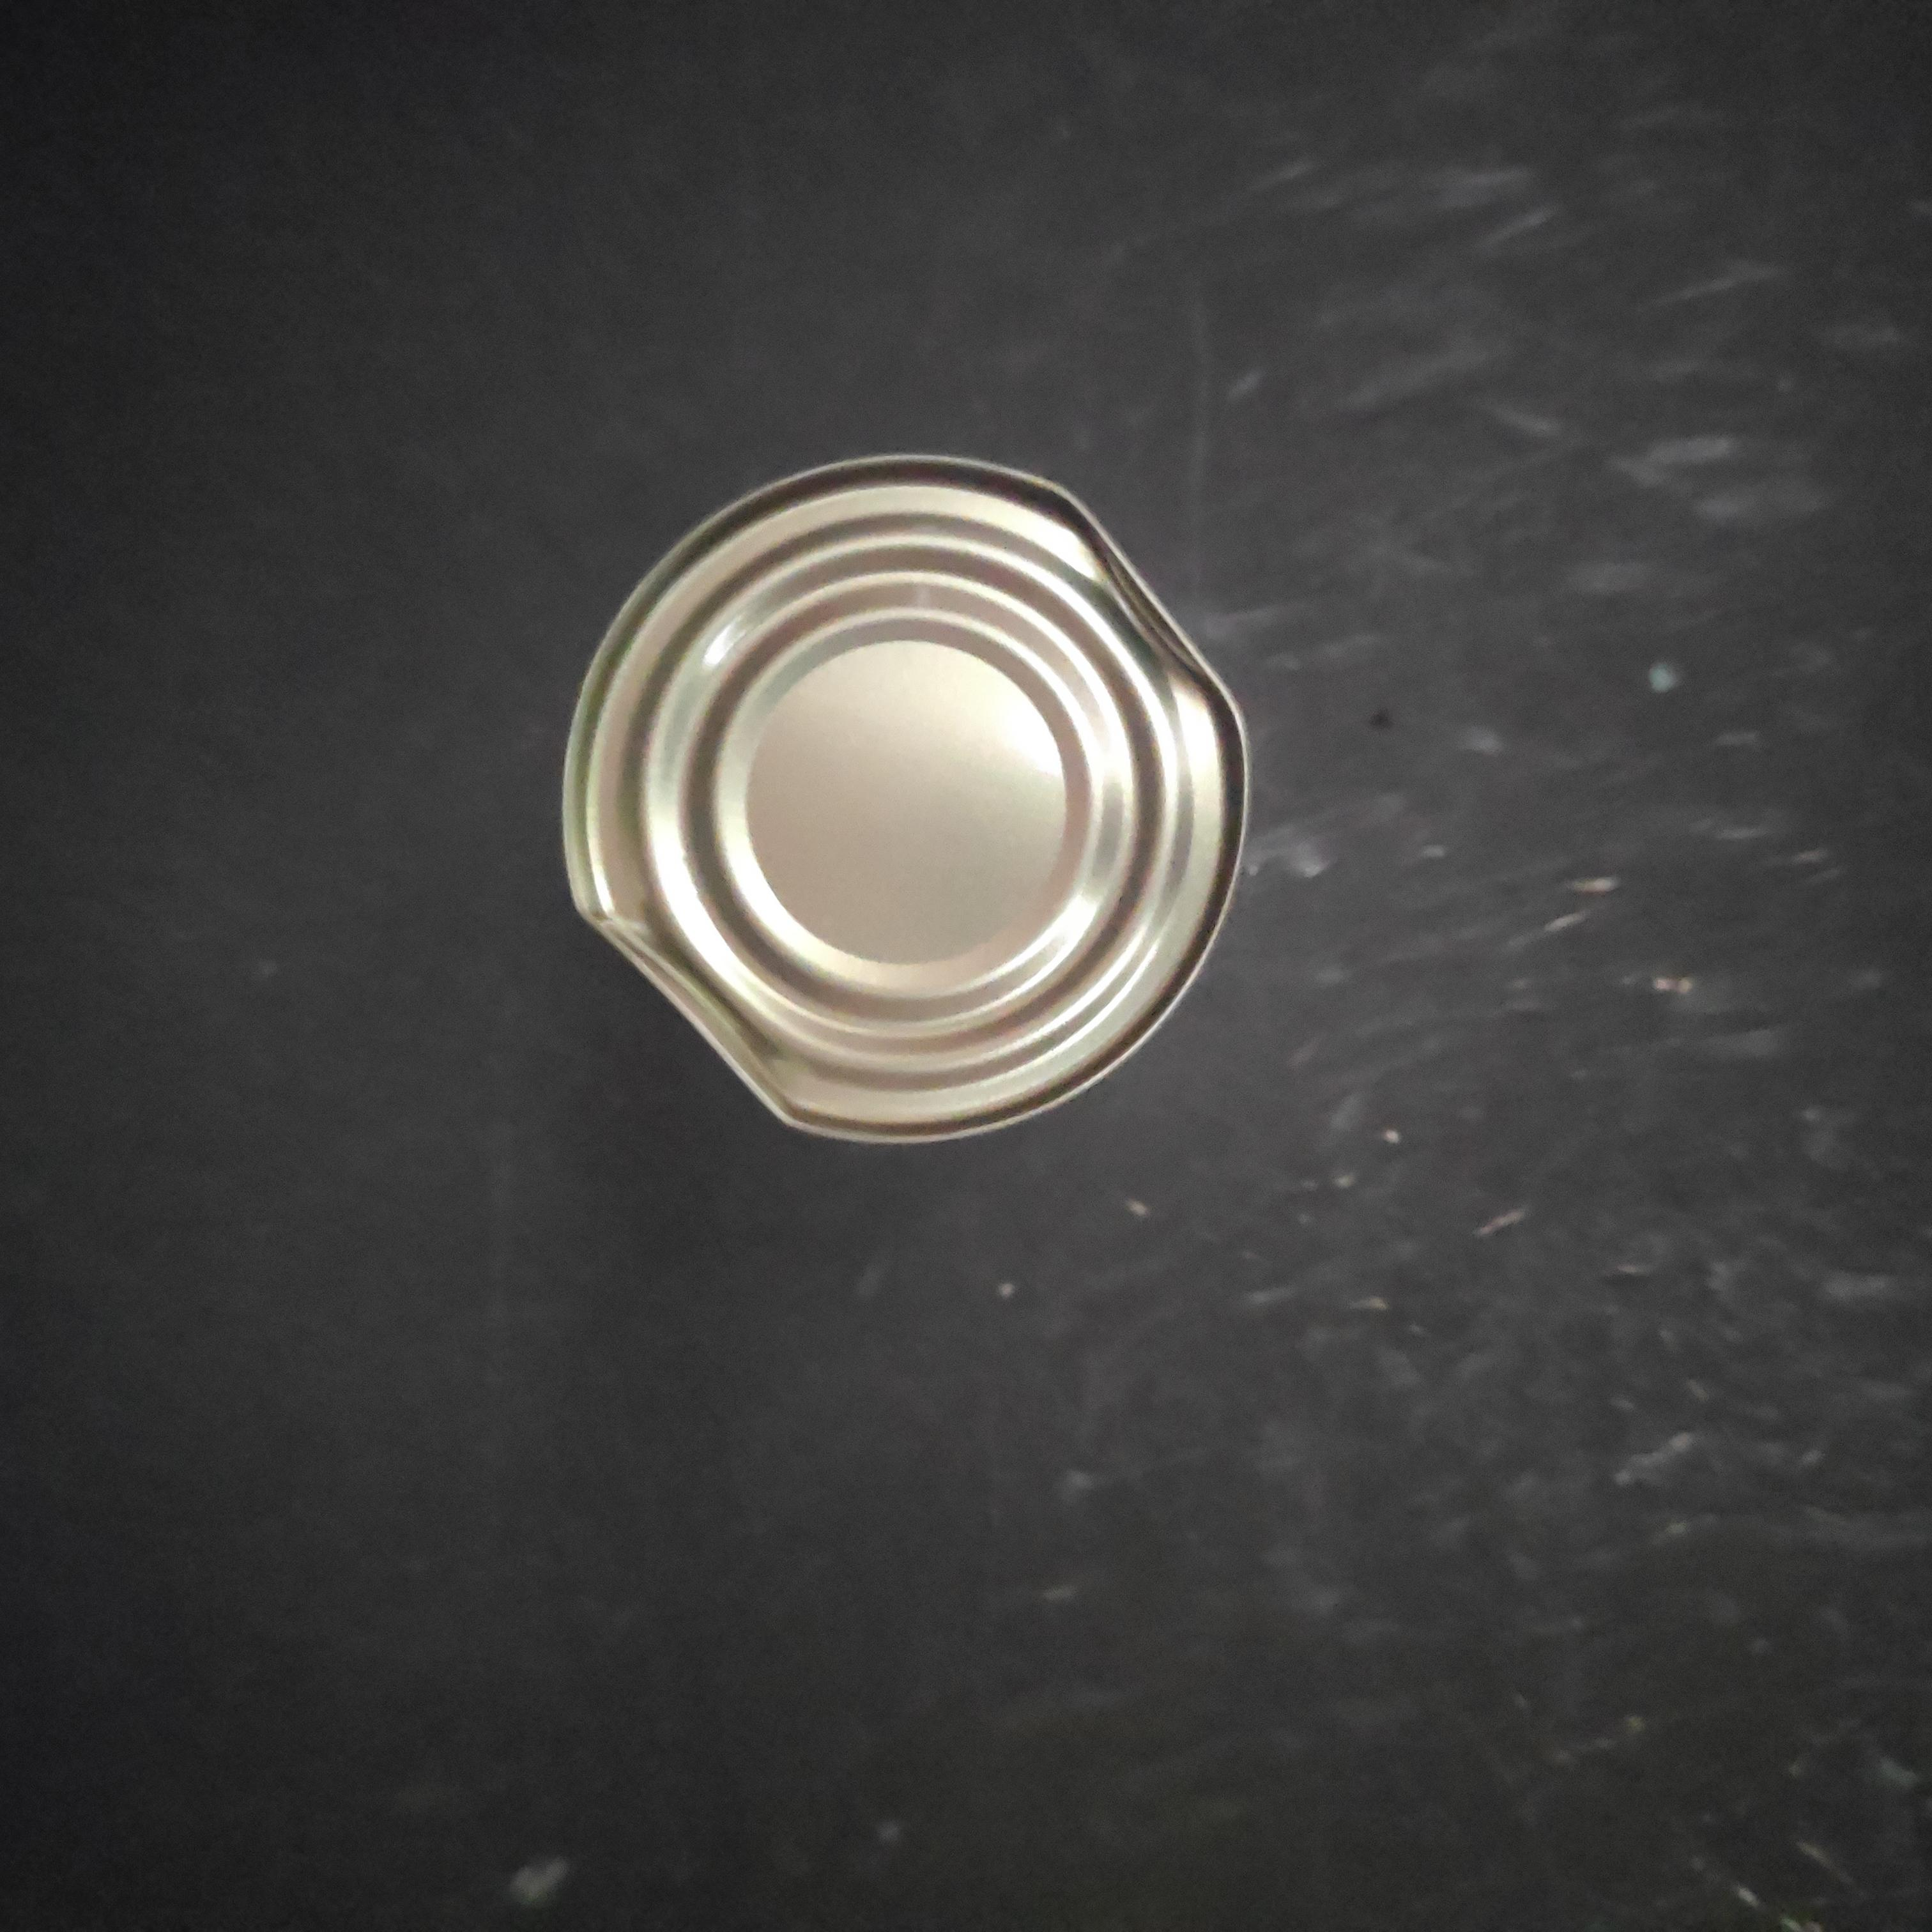Minor Defect: (669, 777, 1384, 1499)
